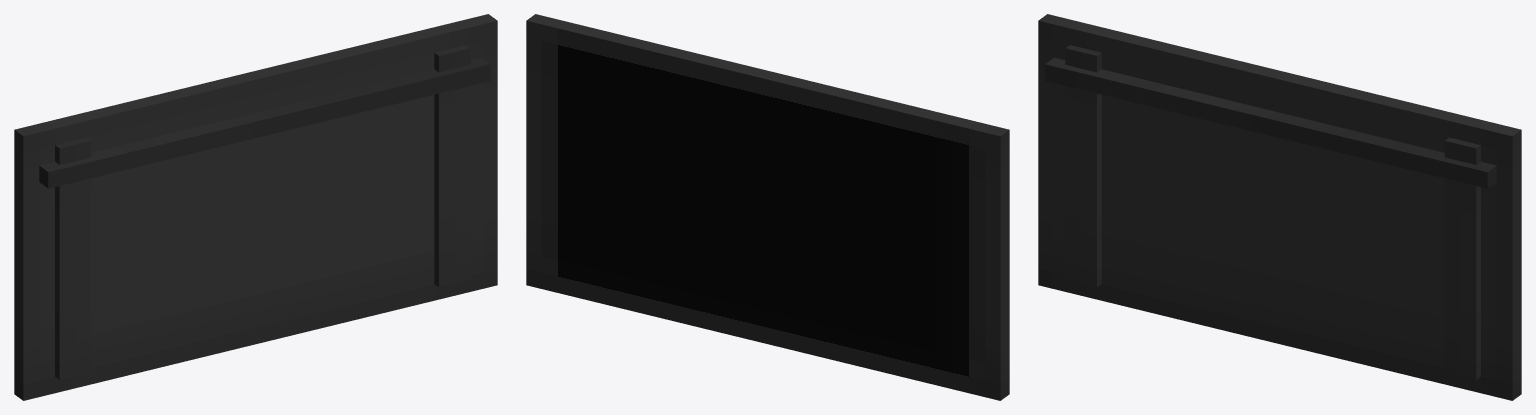
Rendered from flatscreen_t_v__target.obj.
3 renders of one model, left to right at view 1: azimuth 30°, elevation 25°; view 2: azimuth 150°, elevation 25°; view 3: azimuth 330°, elevation 25°, orthographic.
Parts seen in each view (by area): view 1: li, ll, lk, lj; view 2: li; view 3: li, ll, lj, lk.
Part boxes in pixels (x1,y1,x2,y2): li: (14,14,497,400); ll: (39,57,490,188); lk: (434,45,470,287); lj: (55,137,91,379); li: (526,14,1009,400); li: (1038,14,1521,400); ll: (1045,57,1496,188); lj: (1065,45,1101,287); lk: (1444,137,1480,379).
Size of the model in its own units: 1.88 by 1 by 0.1256.
1 material, 1 textured.
